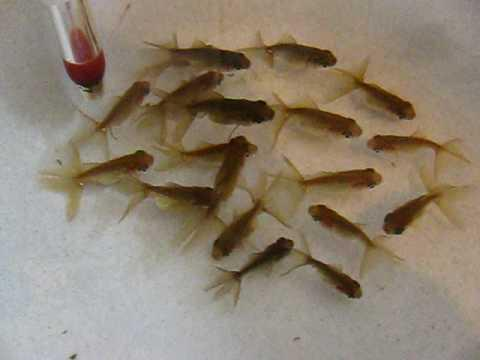fish: (27, 136, 167, 227), (263, 141, 399, 226), (127, 21, 269, 89), (197, 230, 303, 320), (137, 81, 289, 143), (306, 51, 426, 127), (301, 196, 406, 281), (259, 233, 376, 309), (370, 169, 479, 243)
